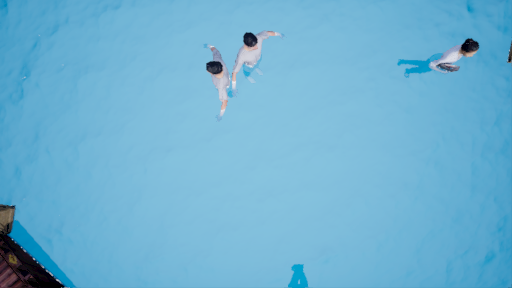person: (195, 23, 284, 122), (397, 34, 480, 85)
